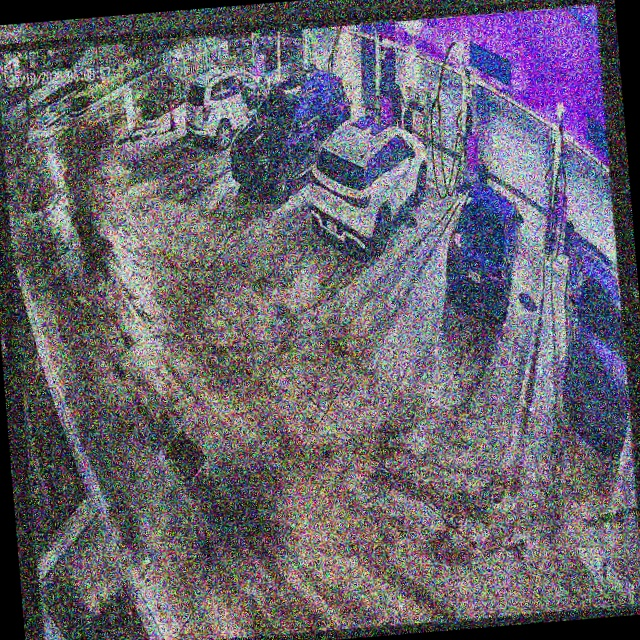Car: (304, 111, 435, 255), (225, 66, 358, 200), (434, 174, 534, 322), (181, 60, 279, 149)
